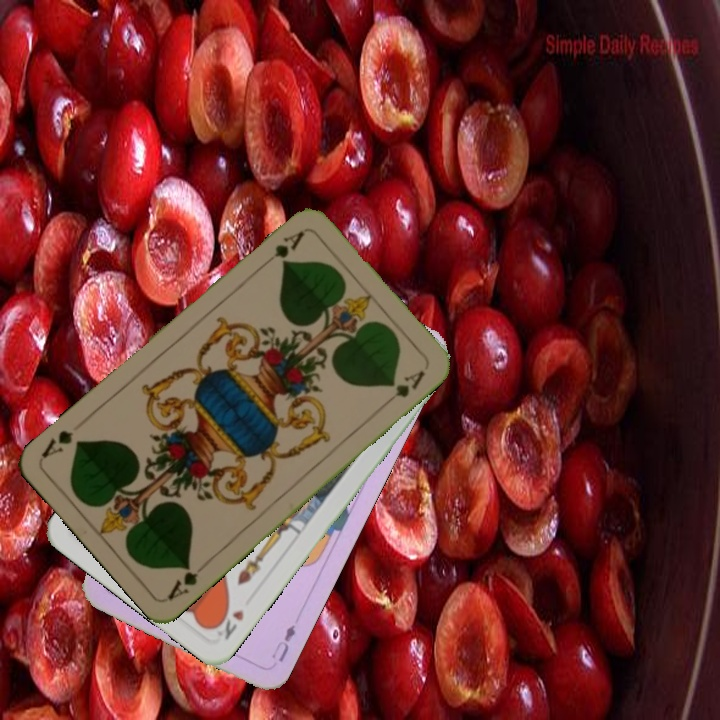EU: (267, 620, 298, 665)
GA: (257, 226, 308, 270), (163, 558, 212, 603)
HK: (209, 602, 247, 643)
